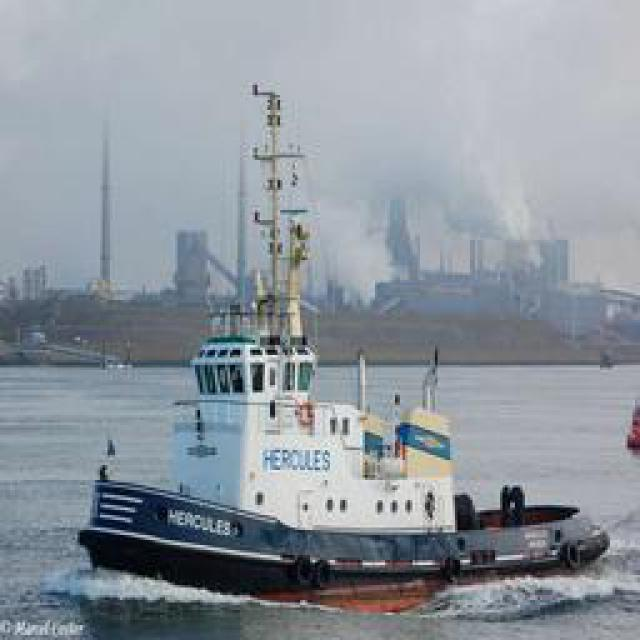Ship: (73, 134, 611, 594)
